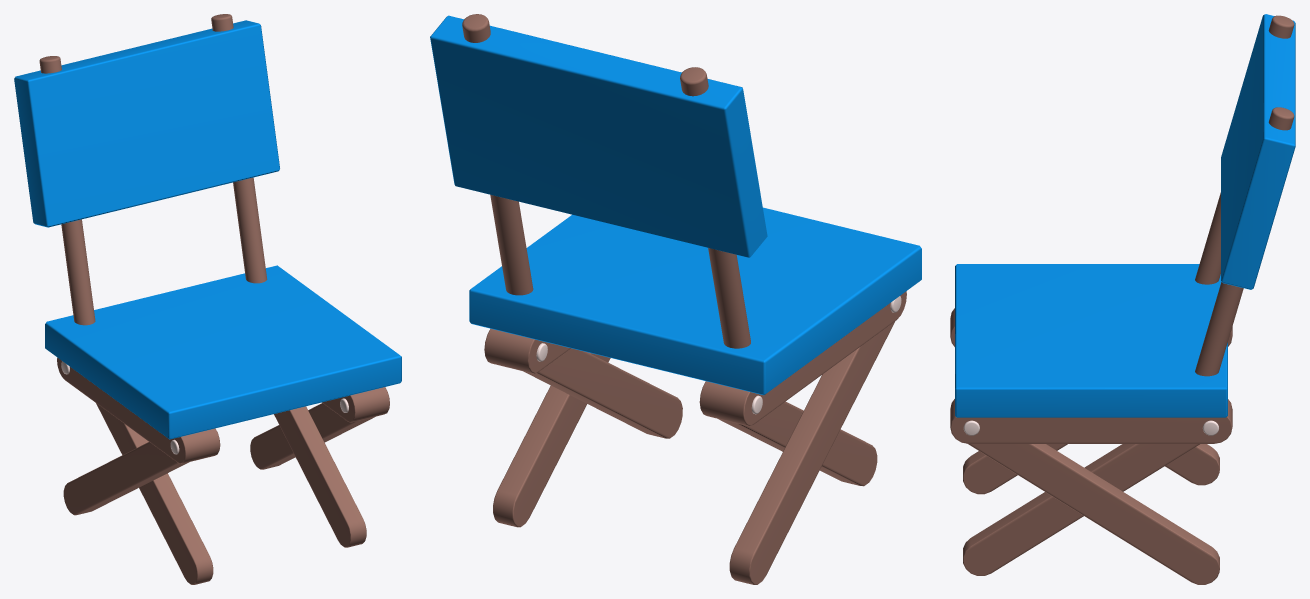
File: Store_18_Chair_1.glb
3 renders of one model, left to right at view 1: azimuth 30°, elevation 25°; view 2: azimuth 150°, elevation 25°; view 3: azimuth 270°, elevation 25°, orthographic. The views are drawn at different scales.
Parts seen in each view (by area): view 1: Store_18_Chair_1; view 2: Store_18_Chair_1; view 3: Store_18_Chair_1.
Part boxes in pixels (x1,y1,x2,y2): Store_18_Chair_1: [14, 14, 401, 584]; Store_18_Chair_1: [430, 14, 921, 584]; Store_18_Chair_1: [950, 14, 1295, 584].
Bounding box in the file's own units: 0.5775 × 1.01 × 0.6749.
1 material, 1 textured.
